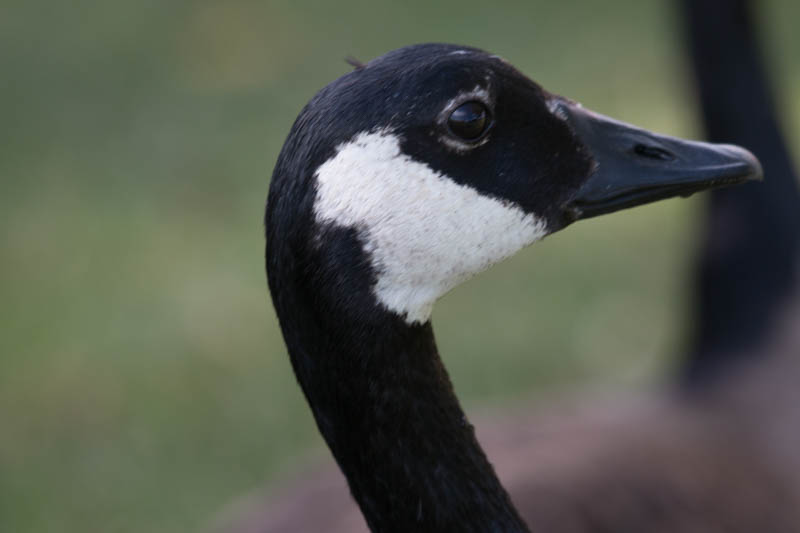goose-head: (264, 41, 763, 323)
